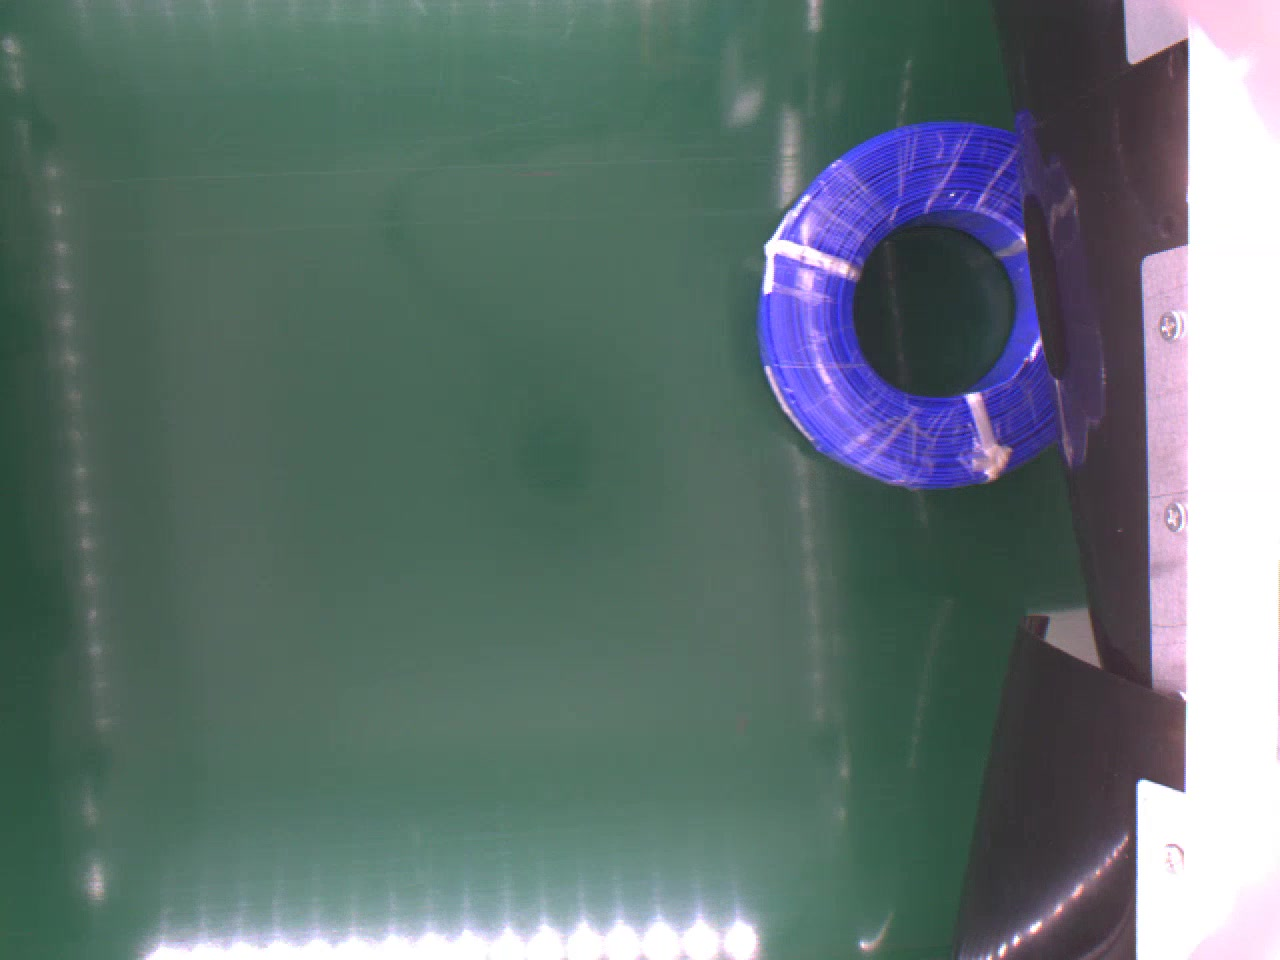blue: (759, 121, 1059, 485)
